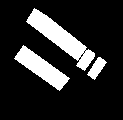parkingspot: (26, 8, 86, 60), (14, 45, 69, 90), (87, 57, 106, 79), (76, 49, 94, 70)
